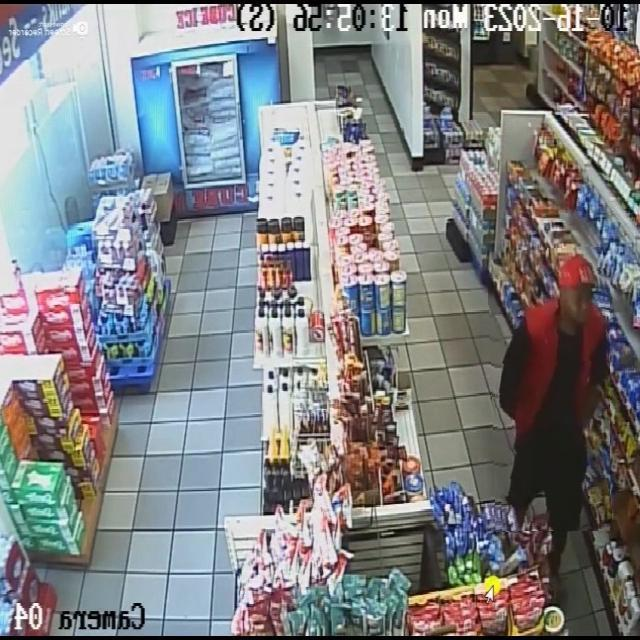Normal: (489, 248, 610, 531)
